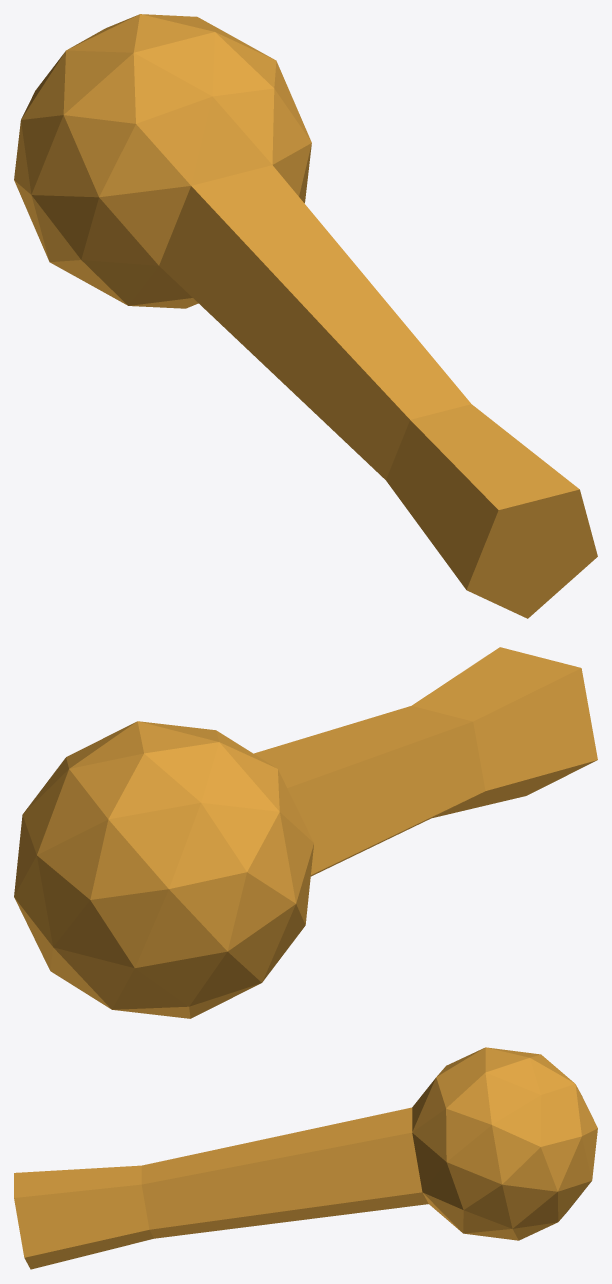
File: Leg_Right.fbx
The picture shows the model from 3 angles, top to bottom: view 1: azimuth 30°, elevation 25°; view 2: azimuth 150°, elevation 25°; view 3: azimuth 270°, elevation 25°; orthographic projection. The views are drawn at different scales.
Visible parts, largest first — view 1: Leg_Right; view 2: Leg_Right; view 3: Leg_Right.
Boxes of the visible parts, x1,y1,x2,y2 form: Leg_Right: [14, 14, 597, 618]; Leg_Right: [14, 647, 597, 1018]; Leg_Right: [14, 1047, 597, 1269].
Size of the model in its own units: 22.52 by 26.55 by 66.67.
